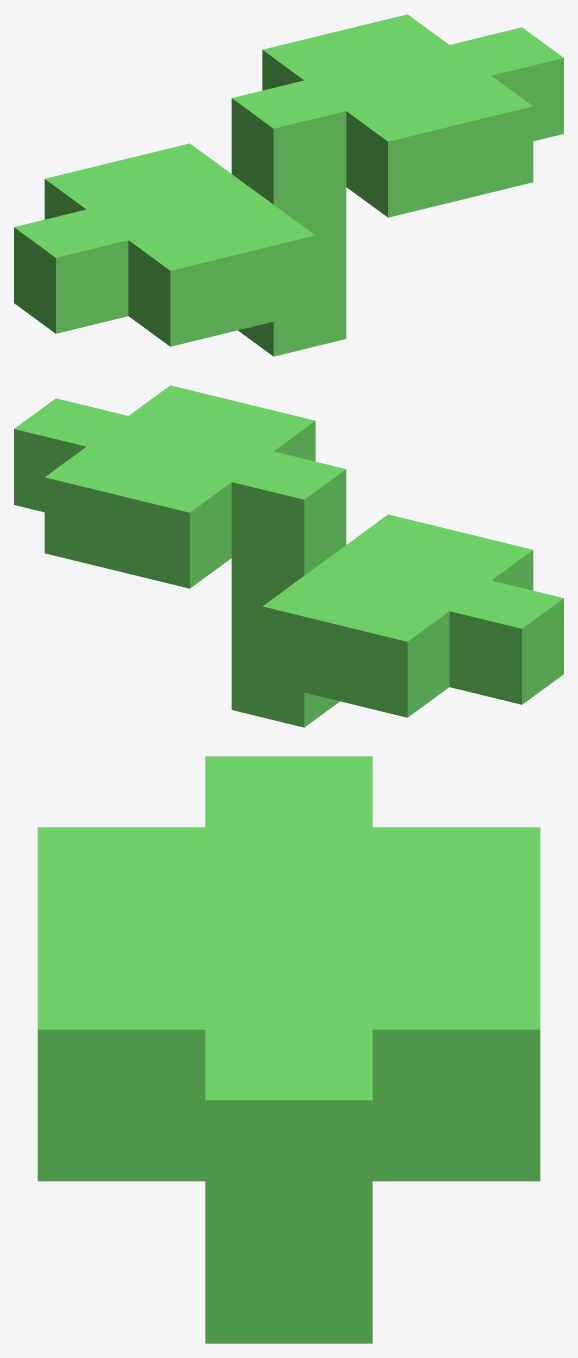
File: Brote.fbx
3 renders of one model, top to bottom at view 1: azimuth 30°, elevation 25°; view 2: azimuth 150°, elevation 25°; view 3: azimuth 270°, elevation 25°, orthographic. The views are drawn at different scales.
Visible parts, largest first — view 1: brote_7x3x3; view 2: brote_7x3x3; view 3: brote_7x3x3.
Boxes of the visible parts, x1,y1,x2,y2 form: brote_7x3x3: (14, 14, 563, 356); brote_7x3x3: (14, 385, 563, 727); brote_7x3x3: (37, 756, 540, 1343).
Size of the model in its own units: 1167 by 500 by 500.
